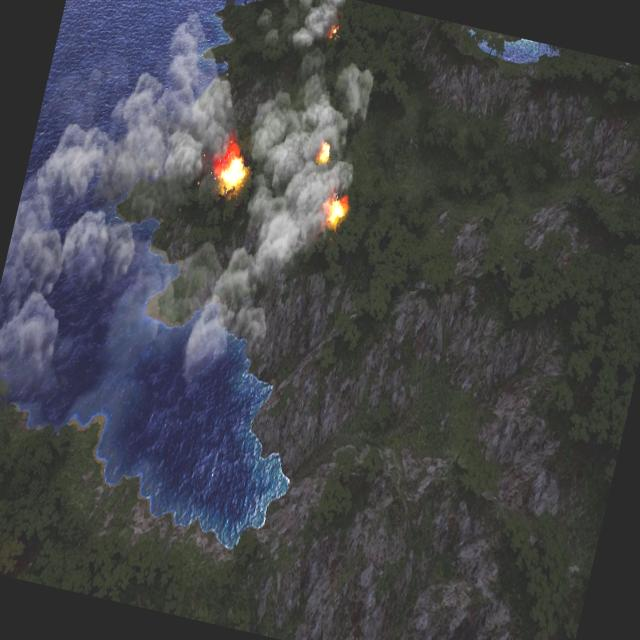fire: (210, 144, 250, 196), (322, 192, 351, 230), (316, 142, 332, 166), (328, 24, 341, 42)
smoke: (0, 0, 383, 462), (254, 0, 346, 56)
